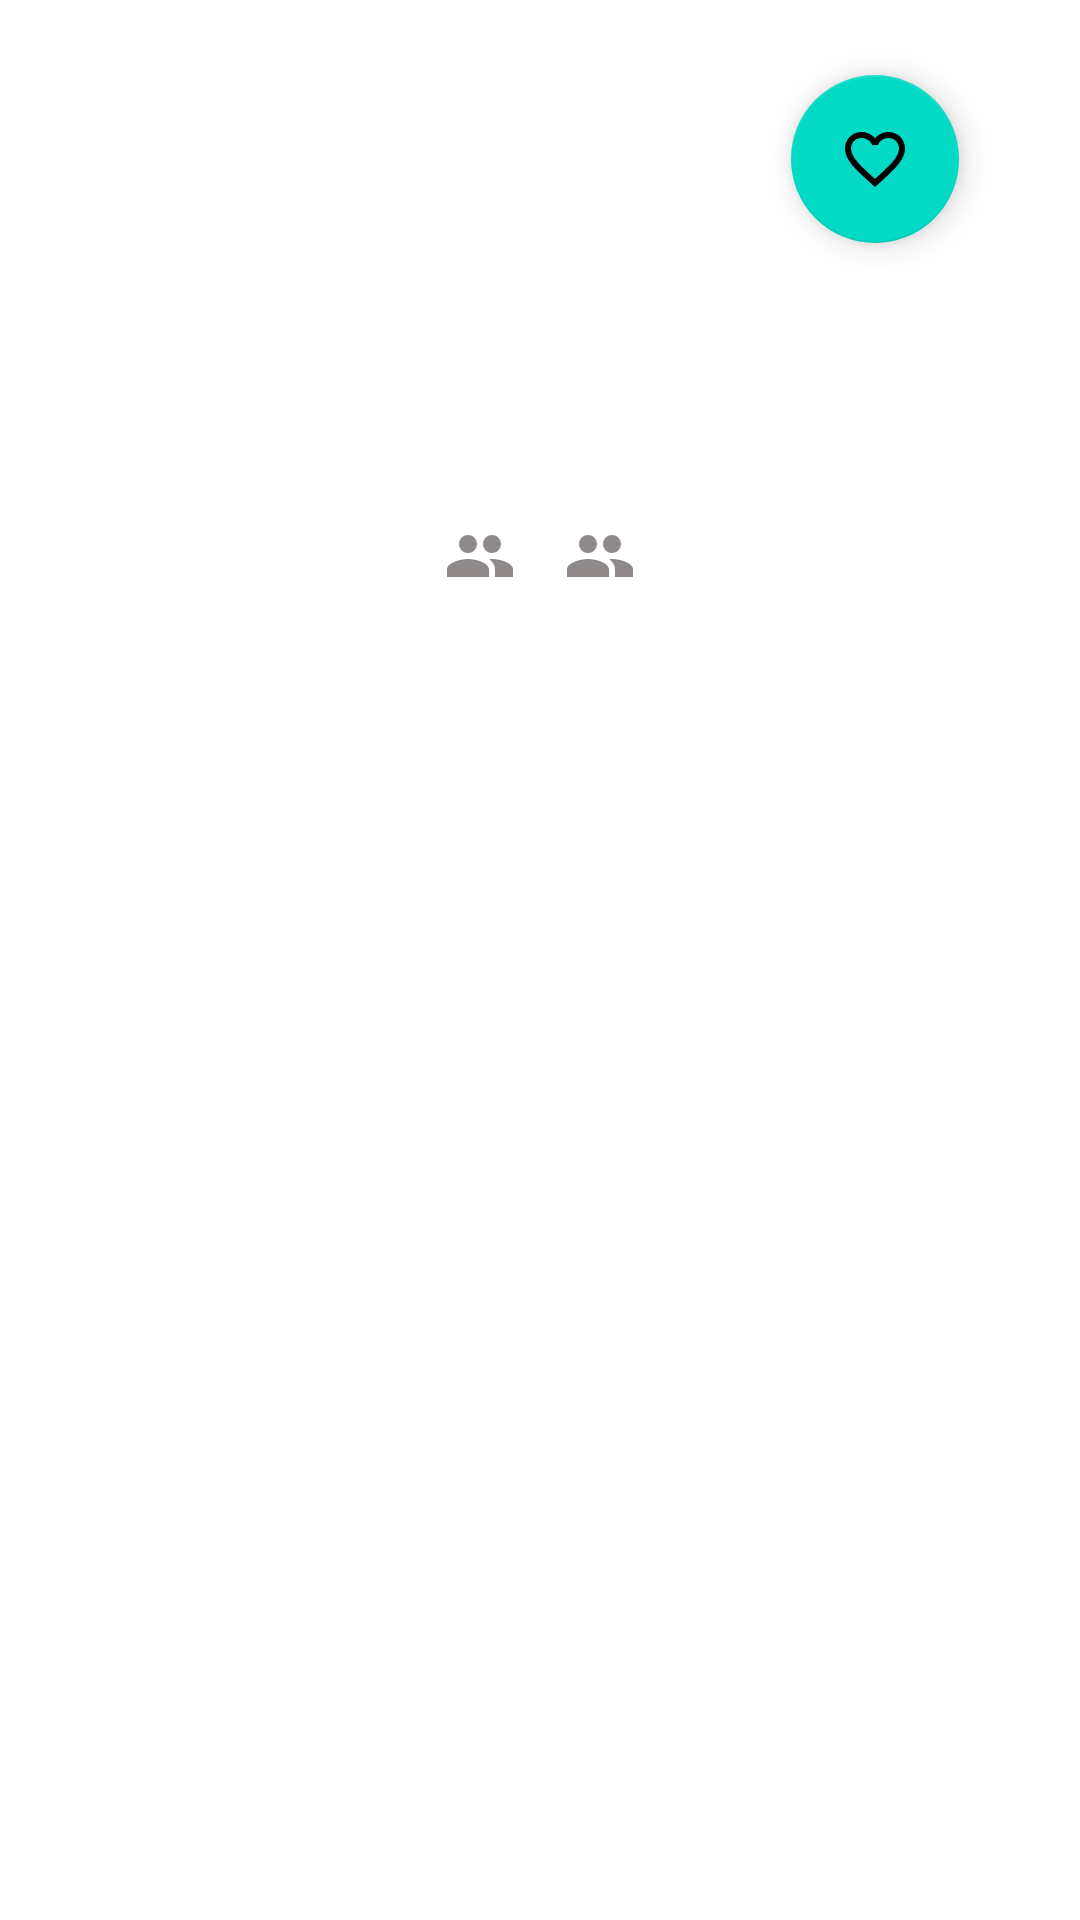

Where icons sit on this 1080×1920 app screen, as (x1, y1, x2, y2):
fav hearth border: (791, 75, 959, 243)
